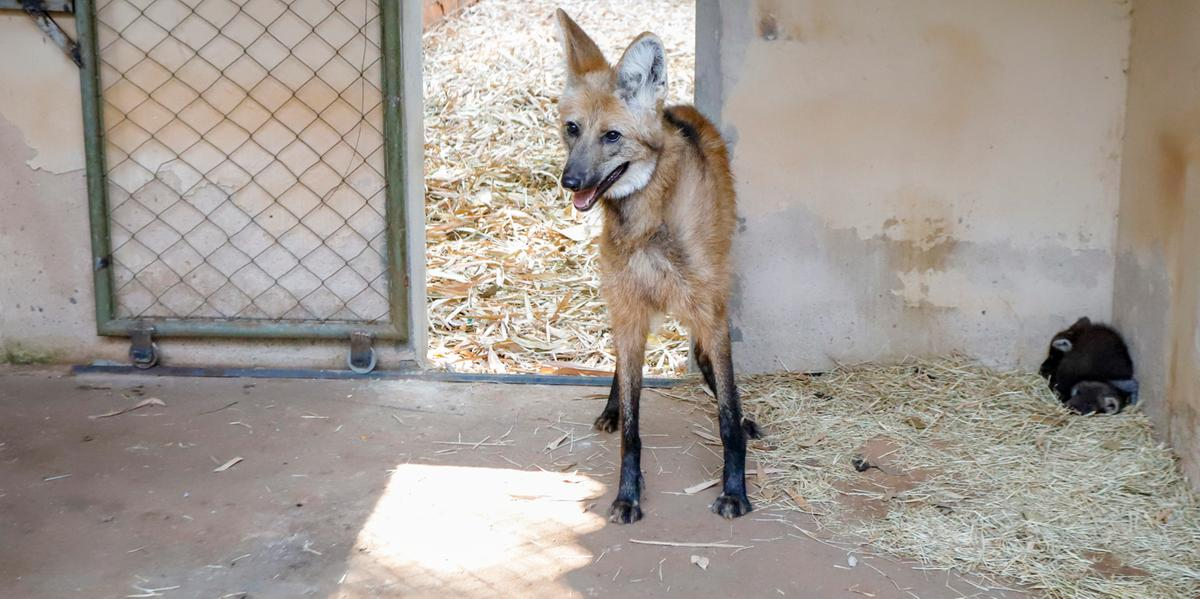LoboGuara: (522, 9, 784, 533)
